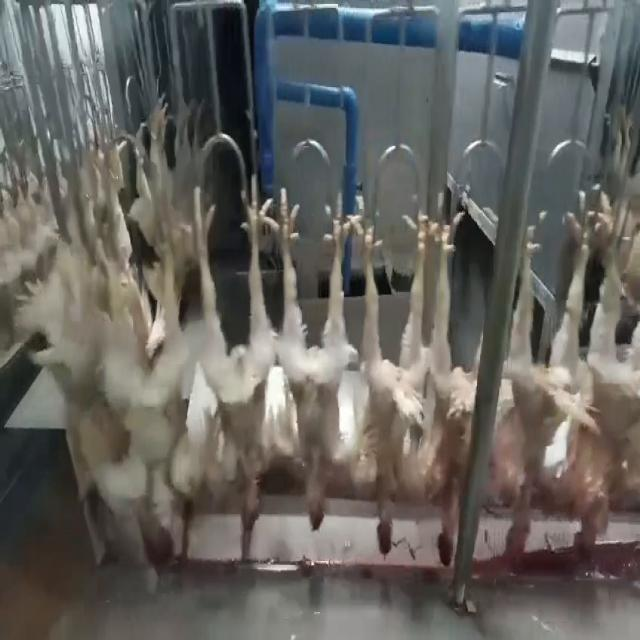chicken: (121, 90, 198, 577), (277, 189, 357, 535), (201, 163, 275, 536), (355, 201, 431, 559), (62, 127, 124, 505), (494, 231, 563, 566), (568, 186, 626, 558), (426, 212, 466, 574)
